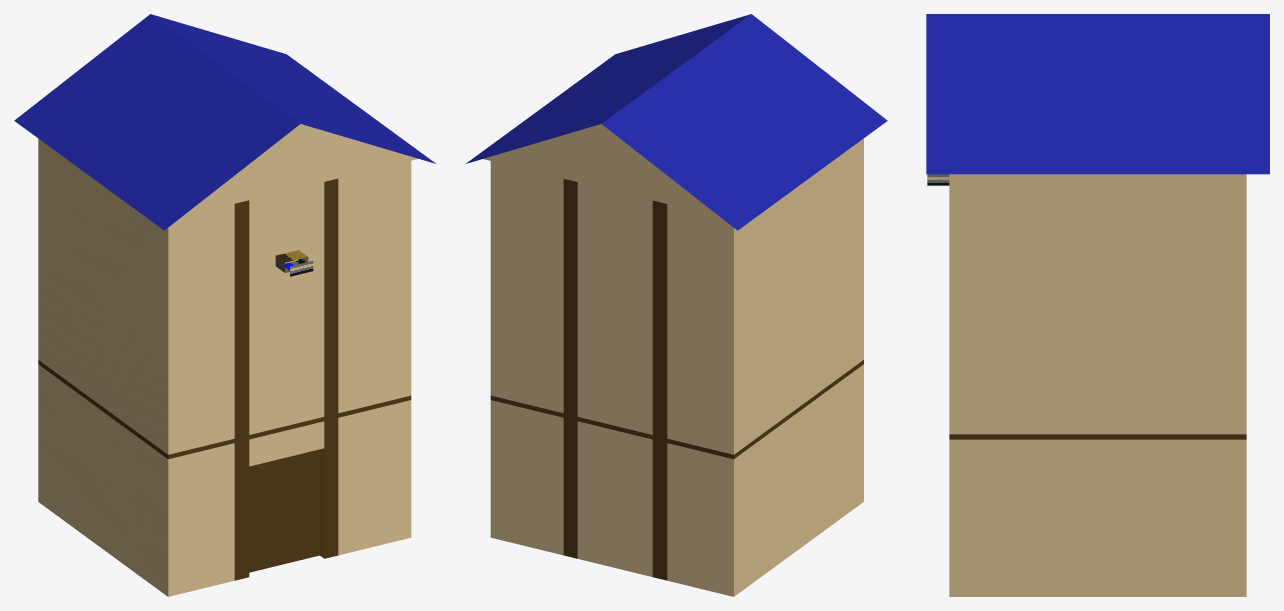
File: Mill.fbx
3 views of the same model, side by side, from view 1: azimuth 30°, elevation 25°; view 2: azimuth 150°, elevation 25°; view 3: azimuth 270°, elevation 25° (orthographic). The views are drawn at different scales.
Parts seen in each view (by area): view 1: Mill; view 2: Mill; view 3: Mill.
Part boxes in pixels (x1,y1,x2,y2): Mill: (14, 14, 435, 596); Mill: (466, 14, 887, 596); Mill: (926, 14, 1269, 596).
Bounding box in the file's own units: 1021 × 1613 × 1004.
